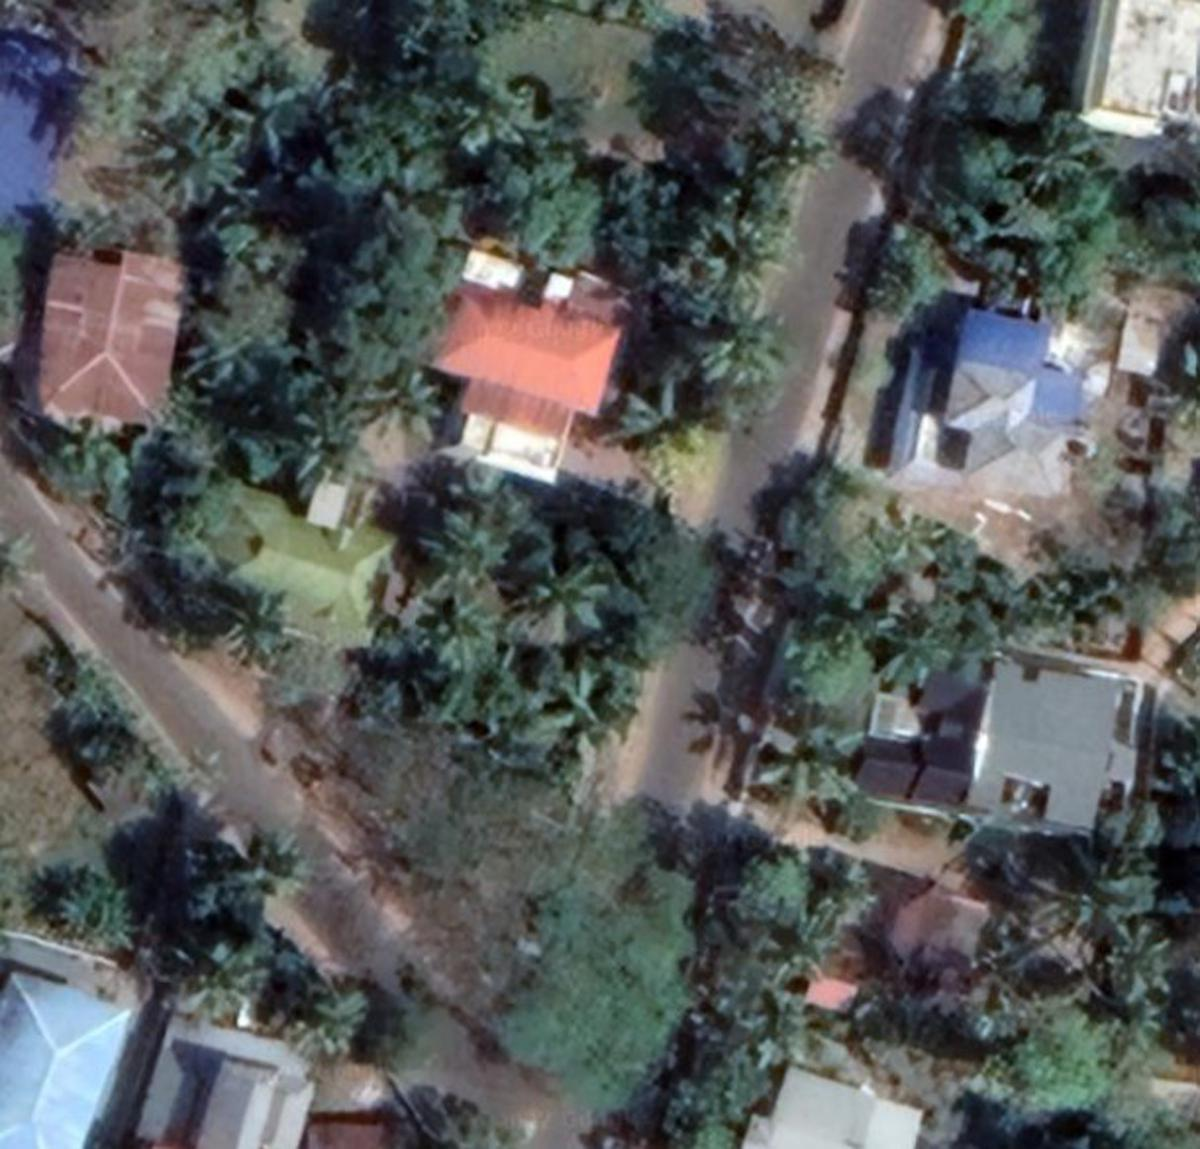coconut: (760, 696, 880, 811), (692, 309, 807, 411), (507, 550, 621, 645), (531, 658, 637, 752), (374, 370, 486, 456), (866, 594, 952, 699), (419, 582, 509, 662), (625, 392, 711, 474), (213, 592, 301, 670), (1096, 919, 1172, 999), (294, 980, 372, 1054)
